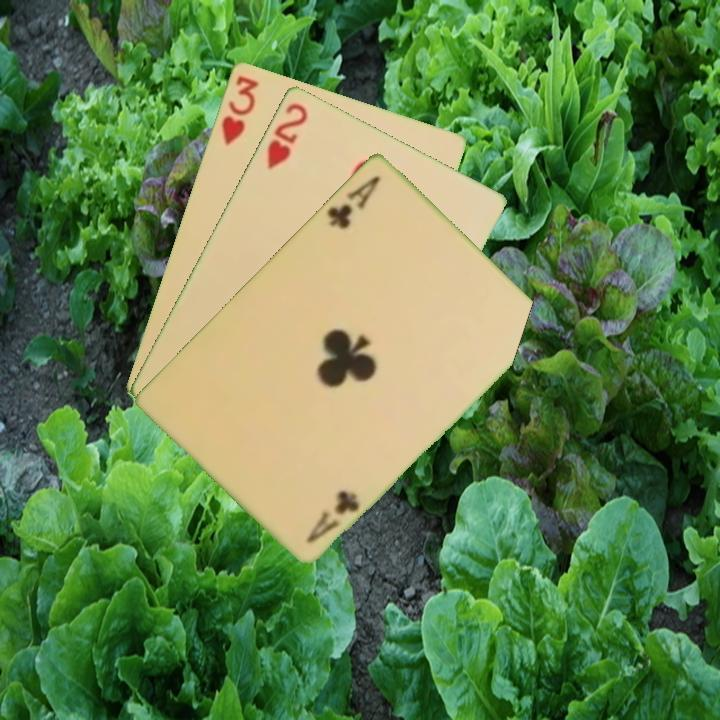2h: (263, 98, 311, 171)
3h: (217, 71, 261, 148)
Ac: (323, 171, 383, 232), (302, 486, 363, 546)
